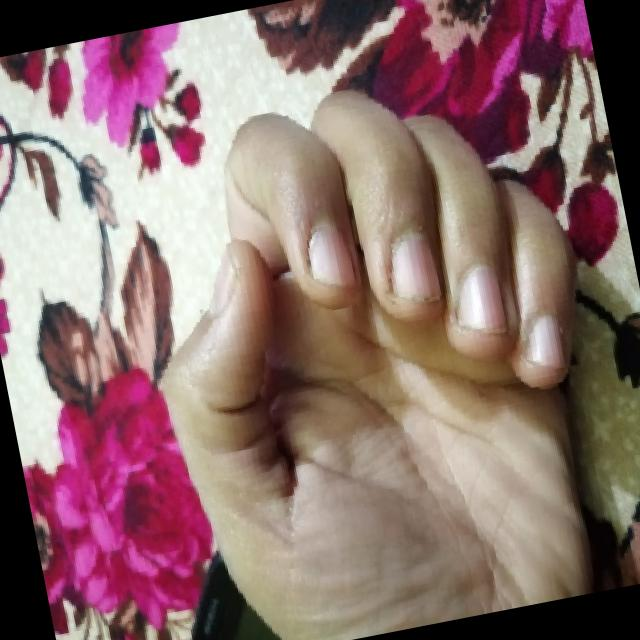Nail: (391, 230, 441, 302), (456, 265, 510, 331), (308, 216, 357, 287), (523, 314, 565, 368), (210, 243, 240, 315)
